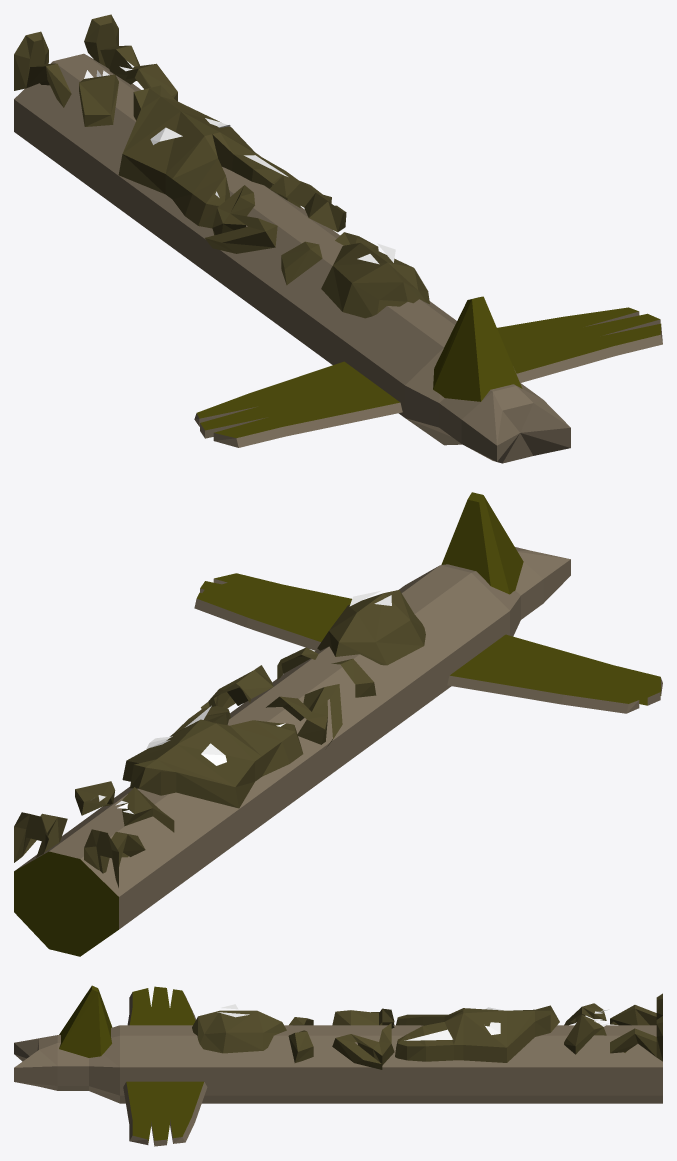
File: obj_totem_pole_0.obj
3 renders of one model, top to bottom at view 1: azimuth 30°, elevation 25°; view 2: azimuth 150°, elevation 25°; view 3: azimuth 270°, elevation 25°, orthographic. The views are drawn at different scales.
Size of the model in its own units: 0.9141 by 0.3047 by 1.62.
